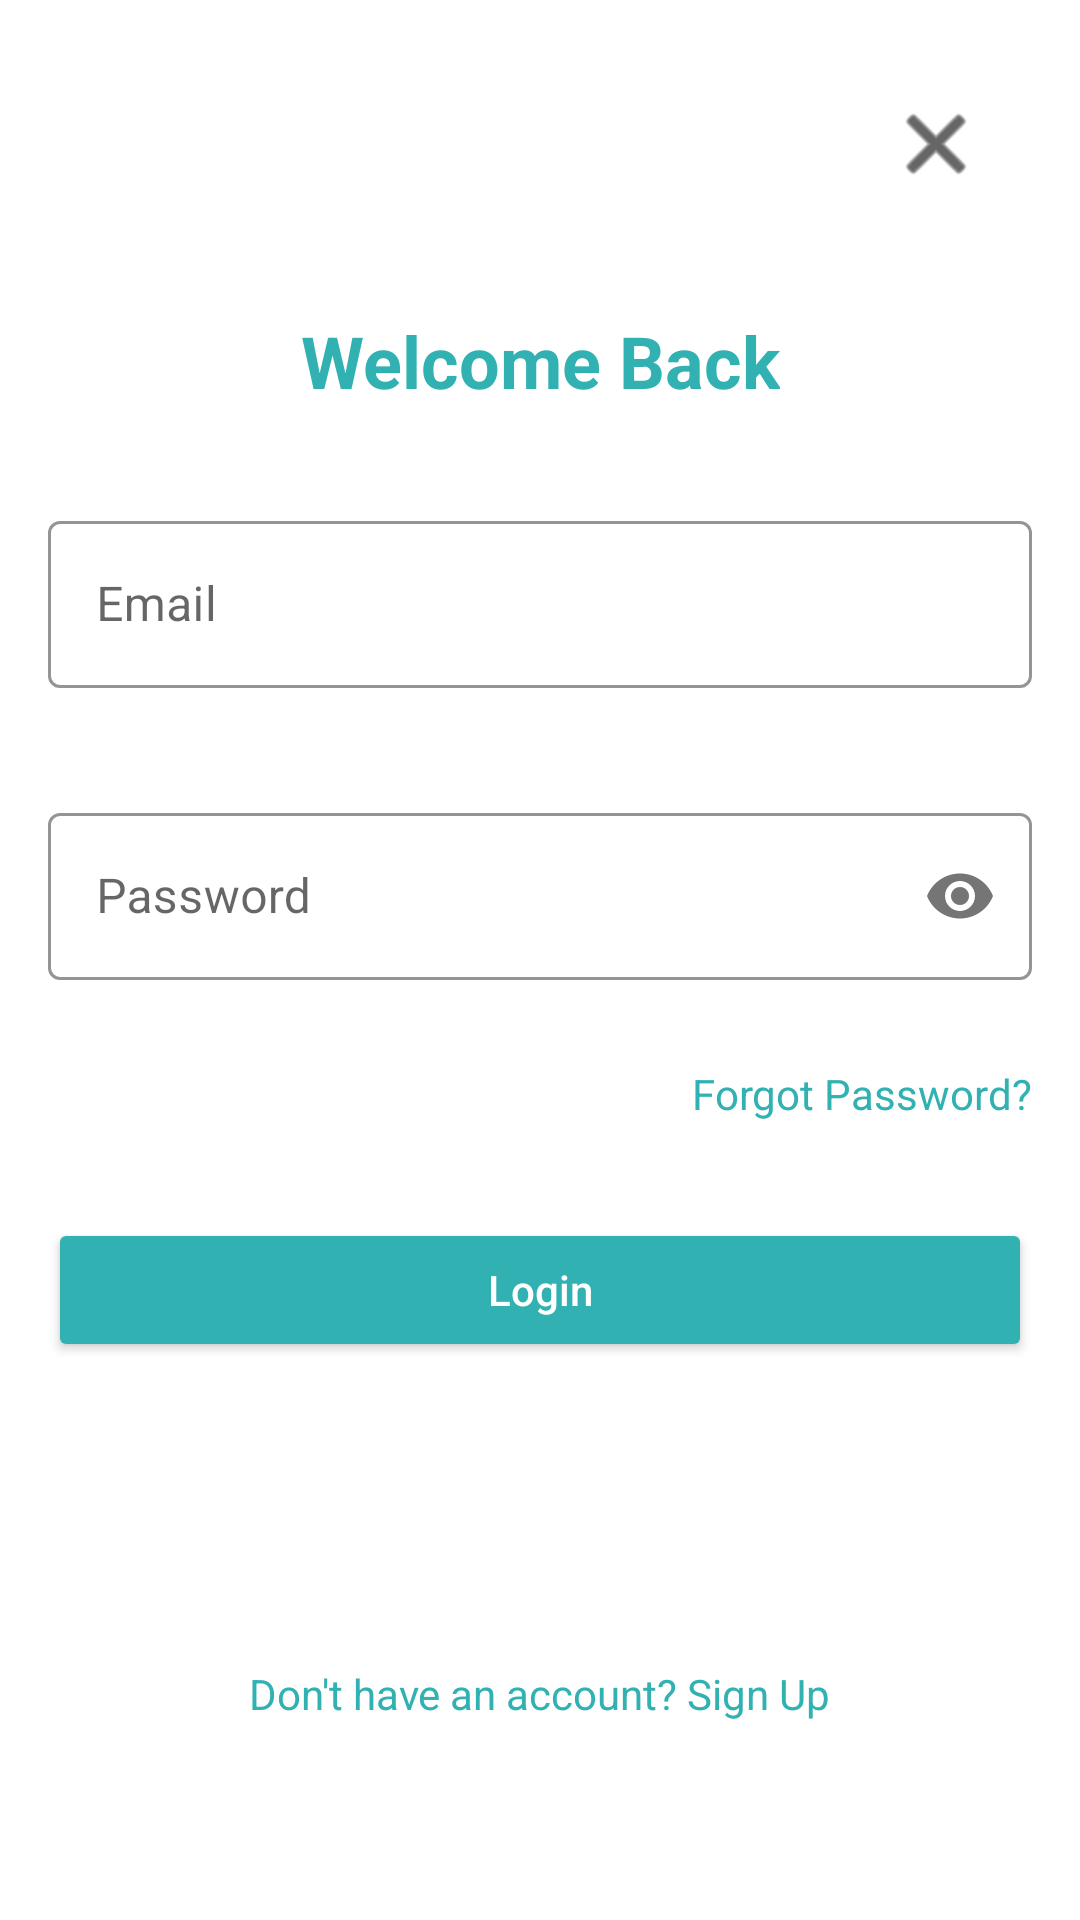

Icon click points for this 1080×1920 phone screenshot, format (x,y):
close clear cancel: (936,144)
